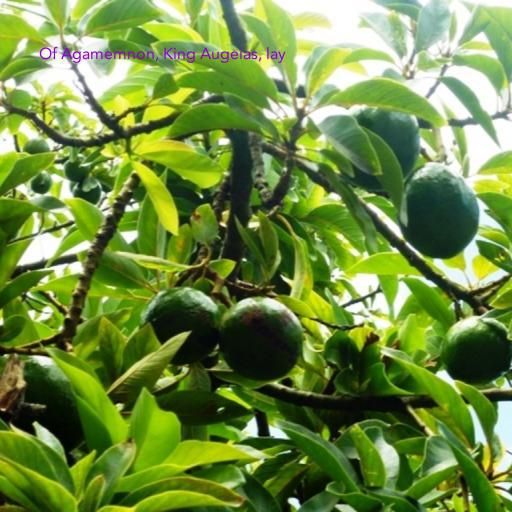Avenir: (38, 46, 286, 63)
